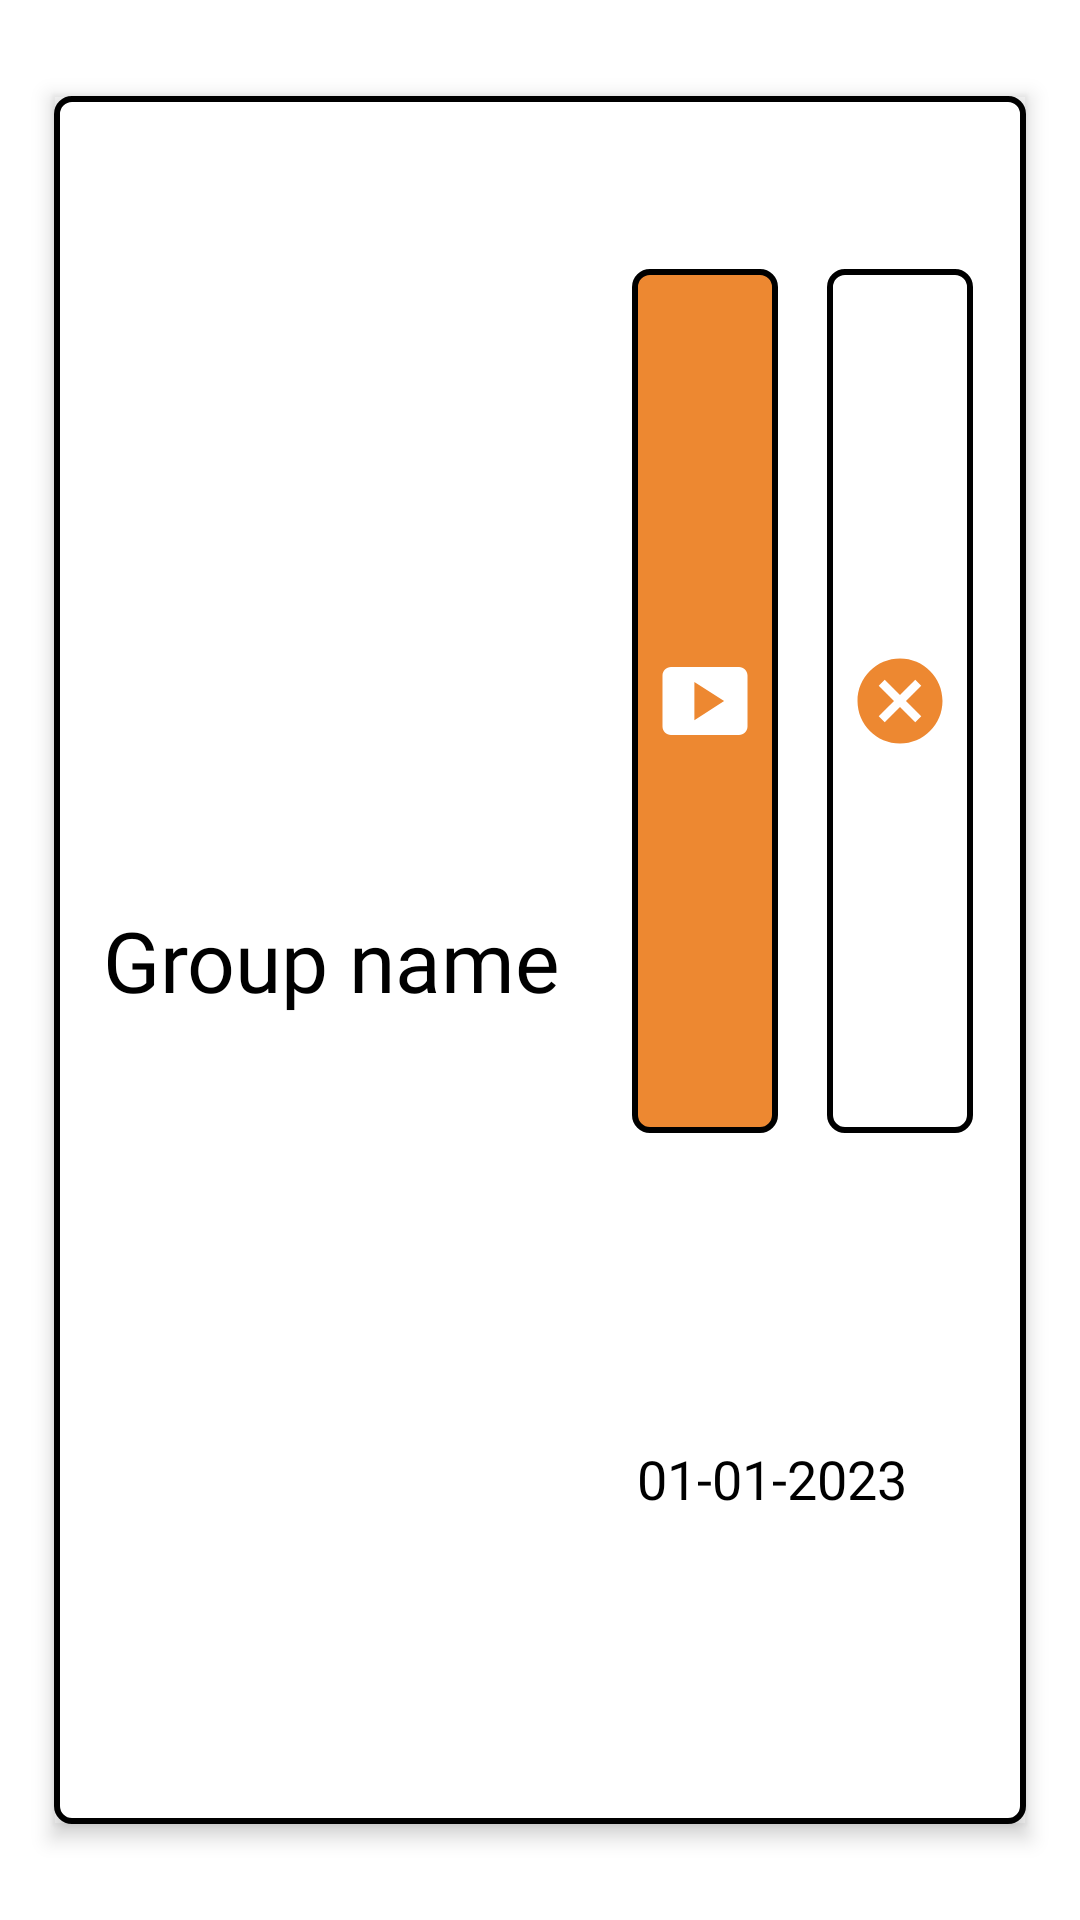

Screen size 1080px×1920px. Icon name, then its box in pixels as region(x1, y1, x2, y2):
group view video: region(662, 667, 748, 735)
groups delete: region(857, 658, 943, 744)
